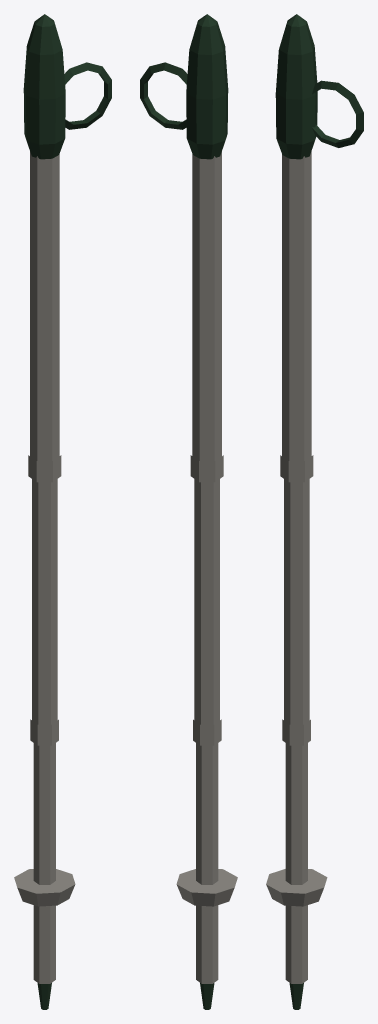
The model's file is trekking-pole-253853.glb.
3 views of the same model, side by side, from view 1: azimuth 30°, elevation 25°; view 2: azimuth 150°, elevation 25°; view 3: azimuth 330°, elevation 25° (orthographic).
Bounding box in the file's own units: 0.1032 × 1.03 × 0.06.
